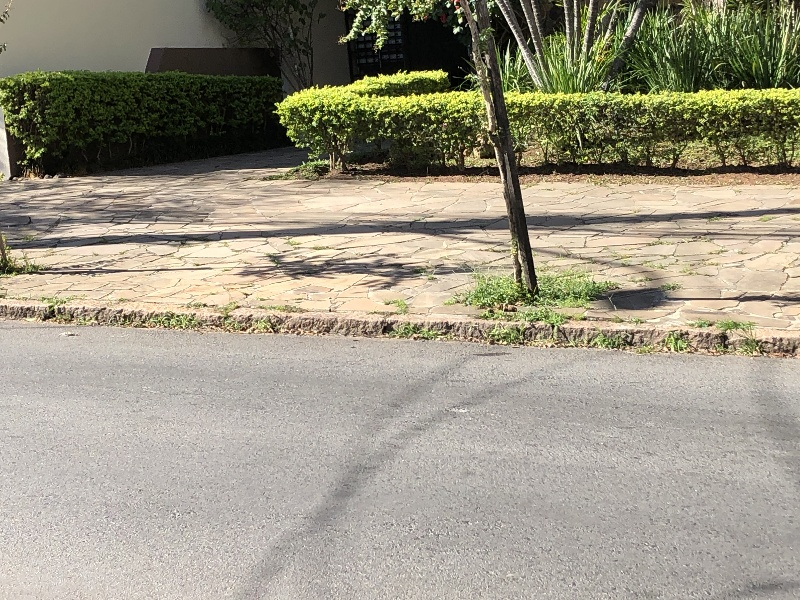v50: (5, 249, 800, 394)
